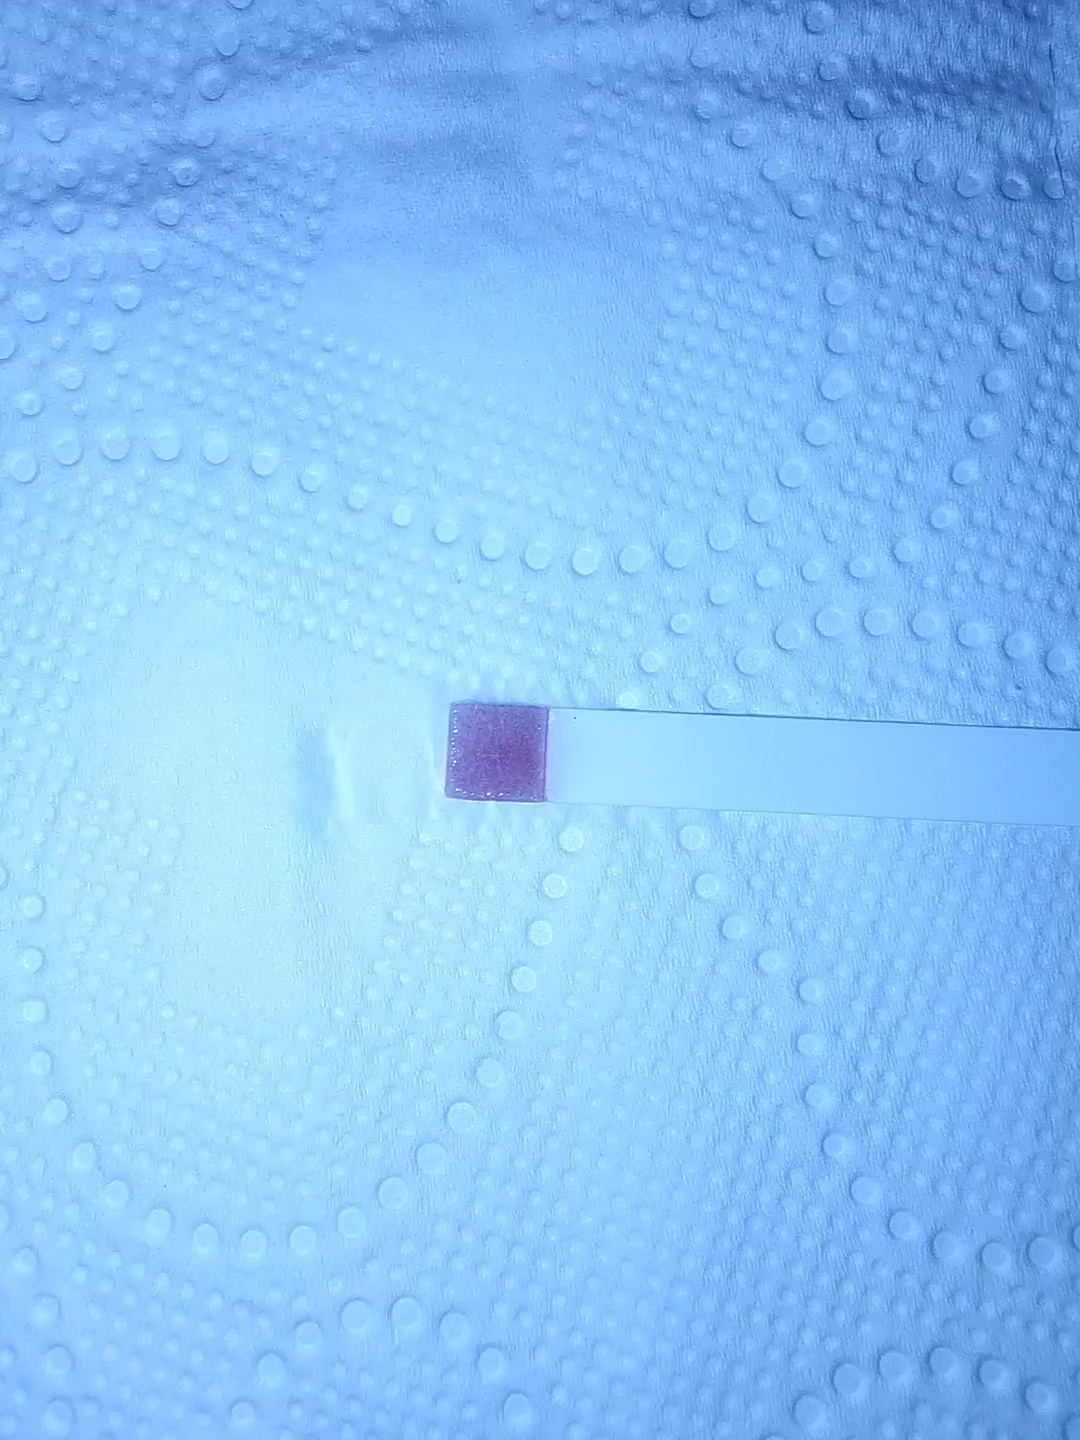keto-tip: (439, 696, 554, 807)
